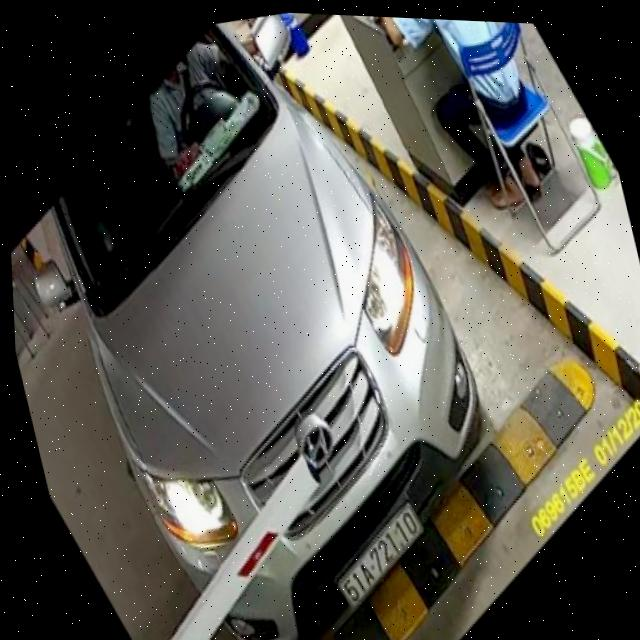car: (0, 0, 536, 640)
plate: (321, 498, 441, 617)
